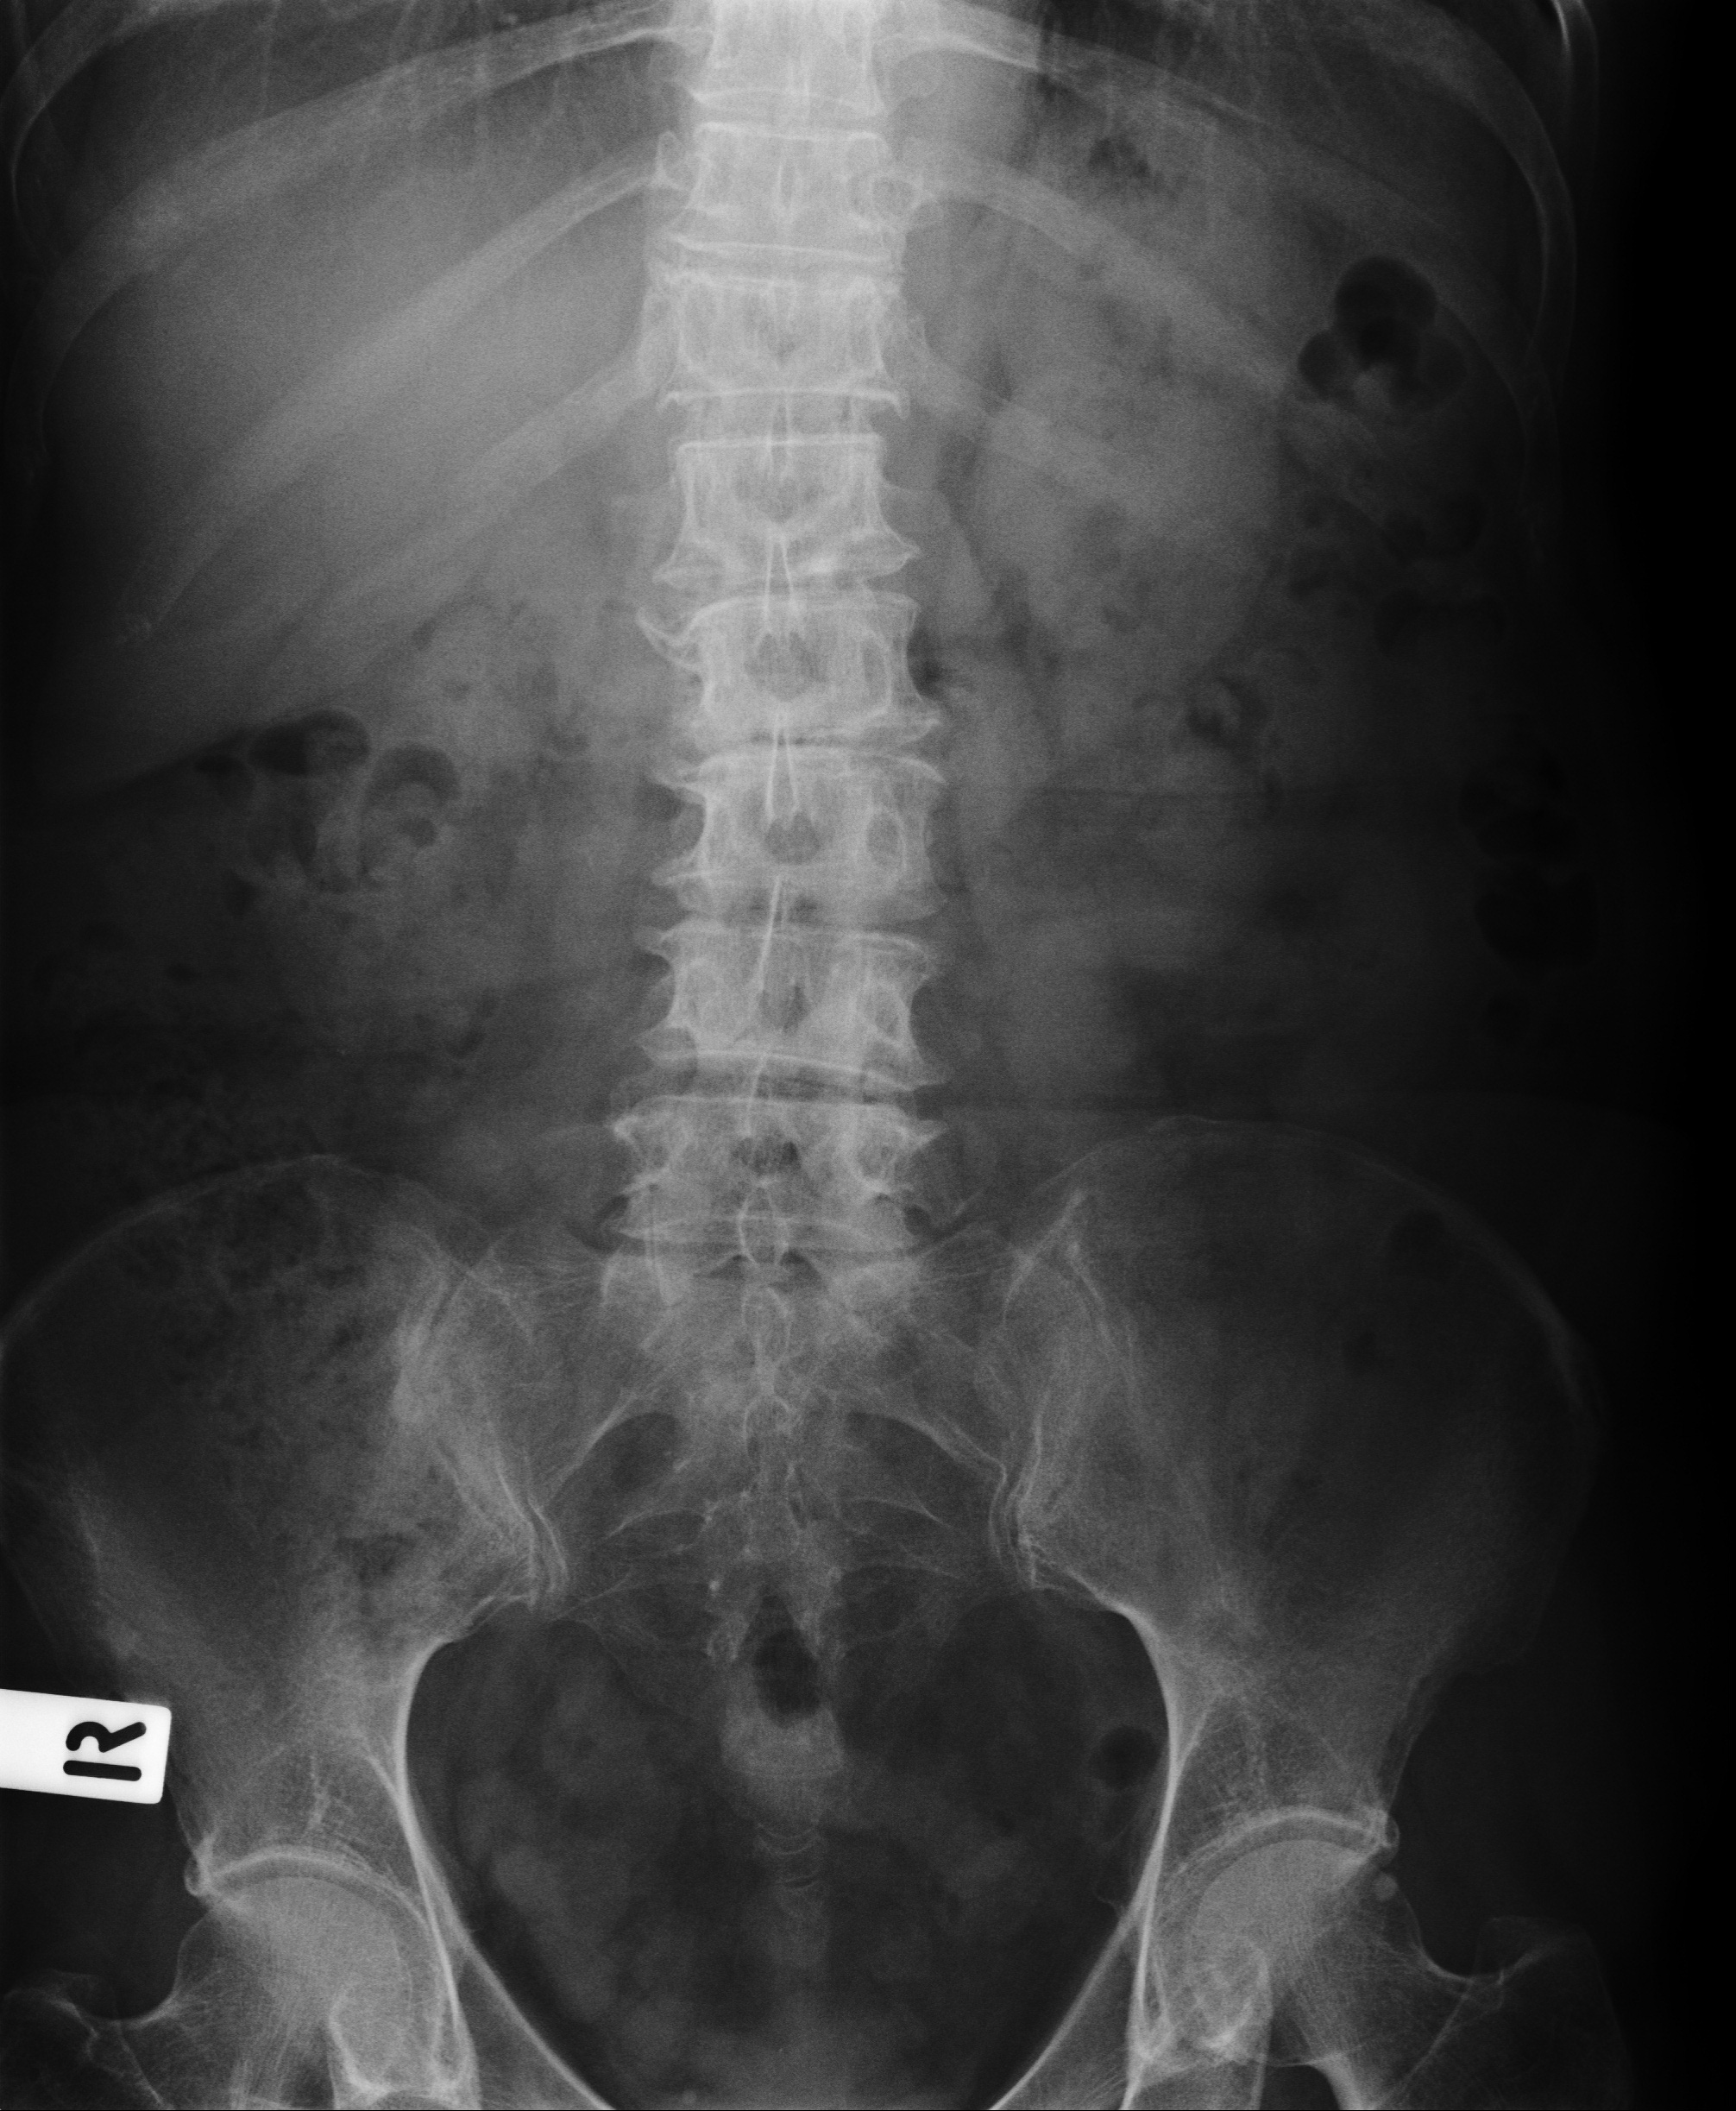lumbar scoliosis: (612, 14, 959, 1326)
